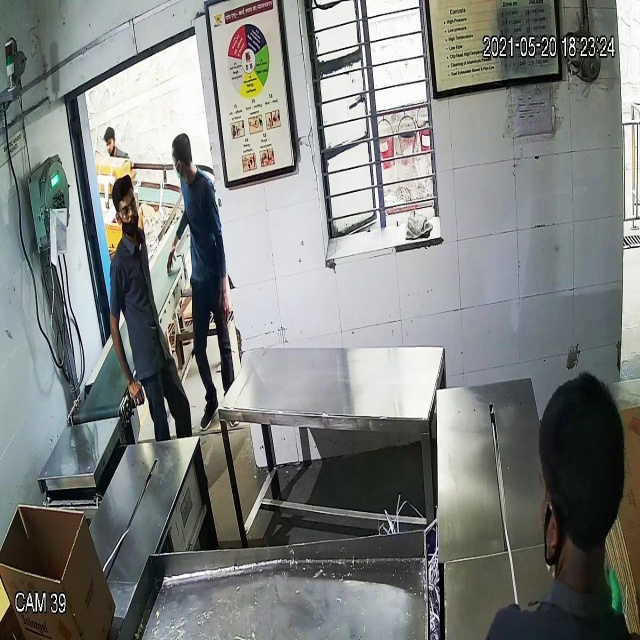Gafas: (112, 199, 143, 224)
